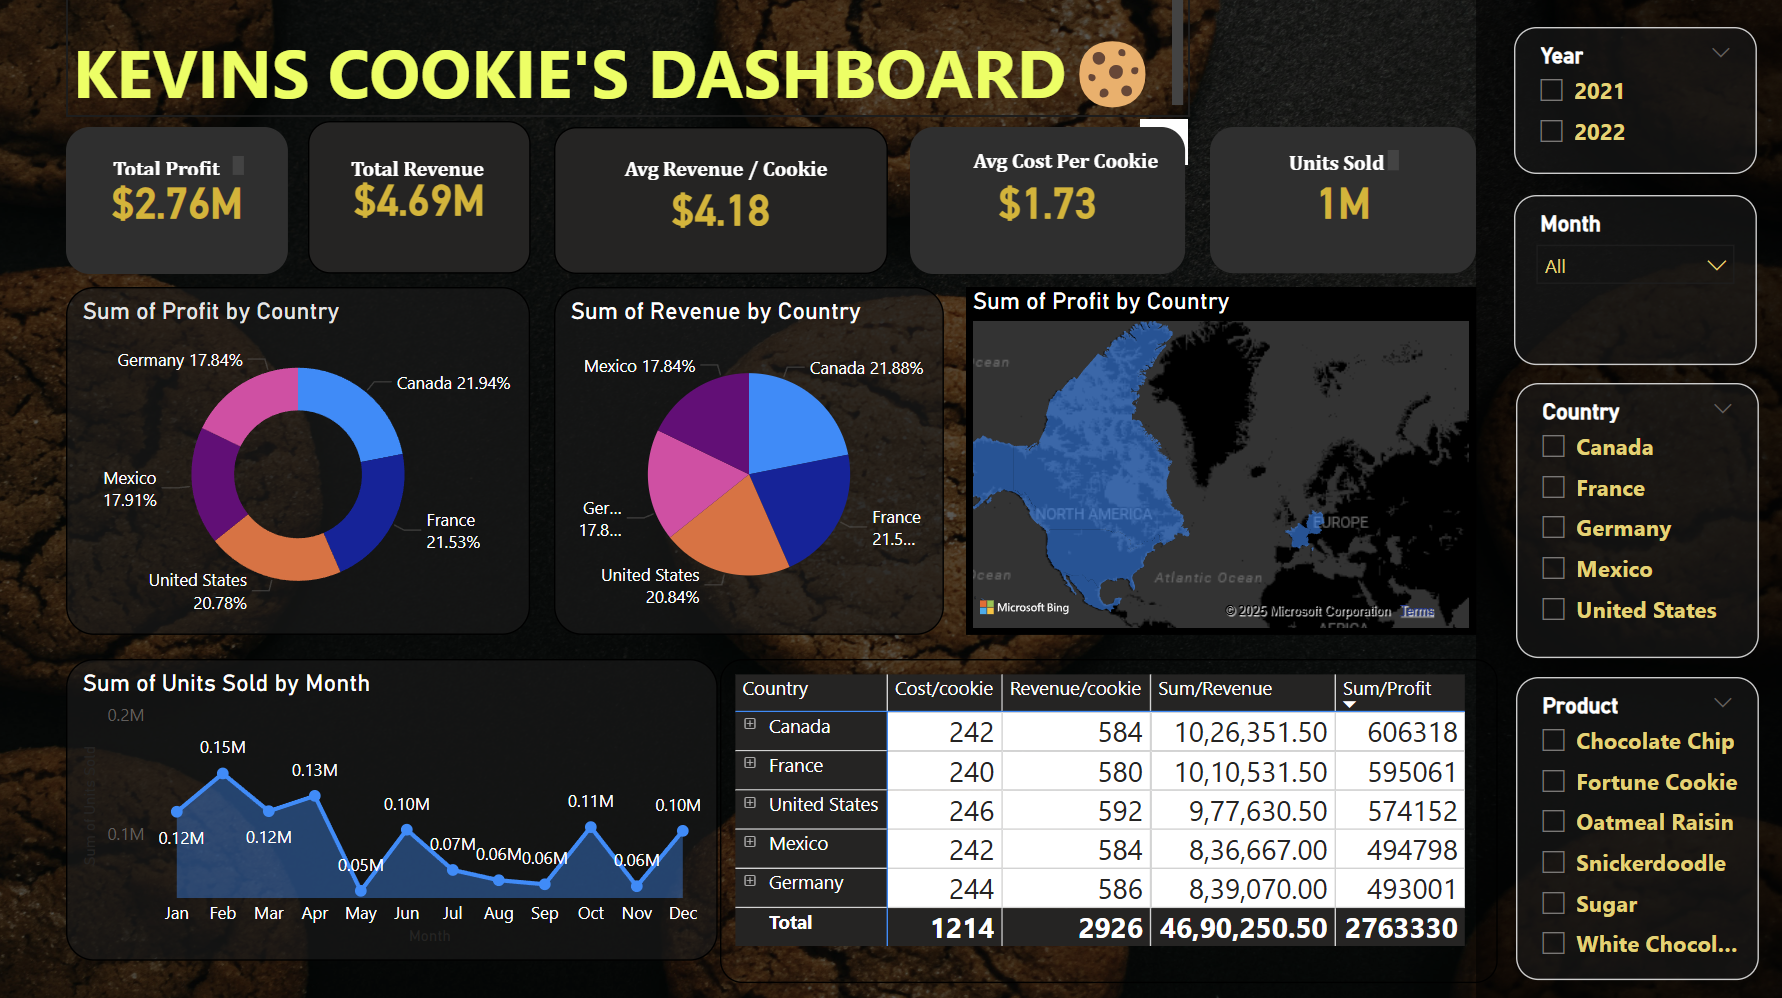

The dashboard page shown, as its layout file describes it:
{"tool":"powerbi","page":{"name":"Page 1","canvas":[1280,720],"ordinal":0},"visuals":[{"type":"card","fields":{"Values":["financials.Profit"]},"box":[50,95,158.3,105],"z":0},{"type":"shape","box":[1057.1,0,222.9,720],"z":1000},{"type":"textbox","box":[78.3,111.7,103.3,23.3],"z":2000},{"type":"textbox","box":[50,0,802.9,88.6],"z":3000},{"type":"slicer","title":"Year","fields":{"Values":["financials.Year"]},"box":[1084.2,24.2,173.3,105],"z":4000},{"type":"card","fields":{"Values":["financials.Revenue"]},"box":[223.4,90.9,158.8,108.8],"z":5000},{"type":"textbox","box":[248.3,111.7,133.3,30],"z":6000},{"type":"card","fields":{"Values":["financials.Units Sold"]},"box":[867.1,95.7,190,104.3],"z":7000},{"type":"textbox","box":[918.6,107.1,88.6,24.3],"z":8000},{"type":"card","fields":{"Values":["financials.Cost per cookie"]},"box":[653.3,95,196.7,105],"z":9000},{"type":"textbox","box":[676.7,106.2,176.7,35],"z":10000},{"type":"slicer","title":"Year","fields":{"Values":["financials.Month"]},"box":[1084.2,144.2,173.3,121.7],"z":11000},{"type":"card","fields":{"Values":["financials.Revenue per cookie"]},"box":[398.3,95,238.3,105],"z":12000},{"type":"slicer","title":"Year","fields":{"Values":["financials.Country"]},"box":[1085,278.3,173.3,196.7],"z":13000},{"type":"textbox","box":[421.7,111.7,186.7,40],"z":14000},{"type":"slicer","title":"Year","fields":{"Values":["financials.Product"]},"box":[1085,488.3,173.3,216.7],"z":15000},{"type":"donutChart","fields":{"Category":["financials.Country"],"Y":["financials.Profit"]},"box":[50,210,331.4,248.6],"z":16000},{"type":"pieChart","fields":{"Category":["financials.Country"],"Y":["financials.Revenue"]},"box":[398.6,210,278.6,248.6],"z":17000},{"type":"lineChart","fields":{"Y":["financials.Units Sold"],"Category":["financials.Month"]},"box":[50,475.7,465.7,215.7],"z":18000},{"type":"pivotTable","fields":{"Rows":["financials.Country","financials.Product"],"Values":["financials.Cost per cookie","financials.Revenue per cookie","financials.Revenue","financials.Profit"]},"box":[517.1,475.7,555.7,231.4],"z":19000},{"type":"filledMap","fields":{"Category":["financials.Country"]},"box":[692.9,210,364.3,248.6],"z":20000}]}

Visuals, with their boxes in screenshot pixels (x1, y1, x2, y2), scaled from the page's 1280x720 canvas onto the 1782x998 screenshot:
card - financials.Profit: 70, 132, 290, 277
shape: 1472, 0, 1781, 997
textbox: 109, 155, 253, 187
textbox: 70, 0, 1187, 123
"Year" slicer: 1509, 34, 1751, 179
card - financials.Revenue: 311, 126, 532, 277
textbox: 346, 155, 531, 196
card - financials.Units Sold: 1207, 133, 1472, 277
textbox: 1279, 148, 1402, 182
card - financials.Cost per cookie: 910, 132, 1183, 277
textbox: 942, 147, 1188, 196
"Year" slicer: 1509, 200, 1751, 369
card - financials.Revenue per cookie: 555, 132, 886, 277
"Year" slicer: 1511, 386, 1752, 658
textbox: 587, 155, 847, 210
"Year" slicer: 1511, 677, 1752, 977
donutChart - financials.Country x financials.Profit: 70, 291, 531, 636
pieChart - financials.Country x financials.Revenue: 555, 291, 943, 636
lineChart - financials.Units Sold x financials.Month: 70, 659, 718, 958
pivotTable - financials.Country x financials.Product: 720, 659, 1494, 980
filledMap - financials.Country: 965, 291, 1472, 636
